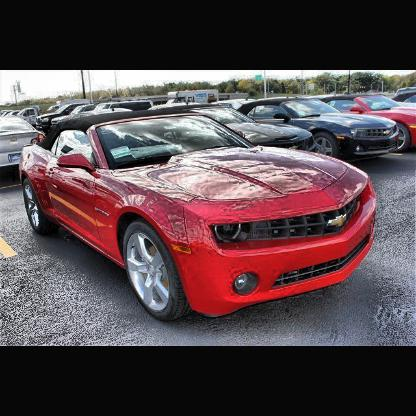Chevrolet Camaro Convertible 2012: (18, 107, 382, 327)
